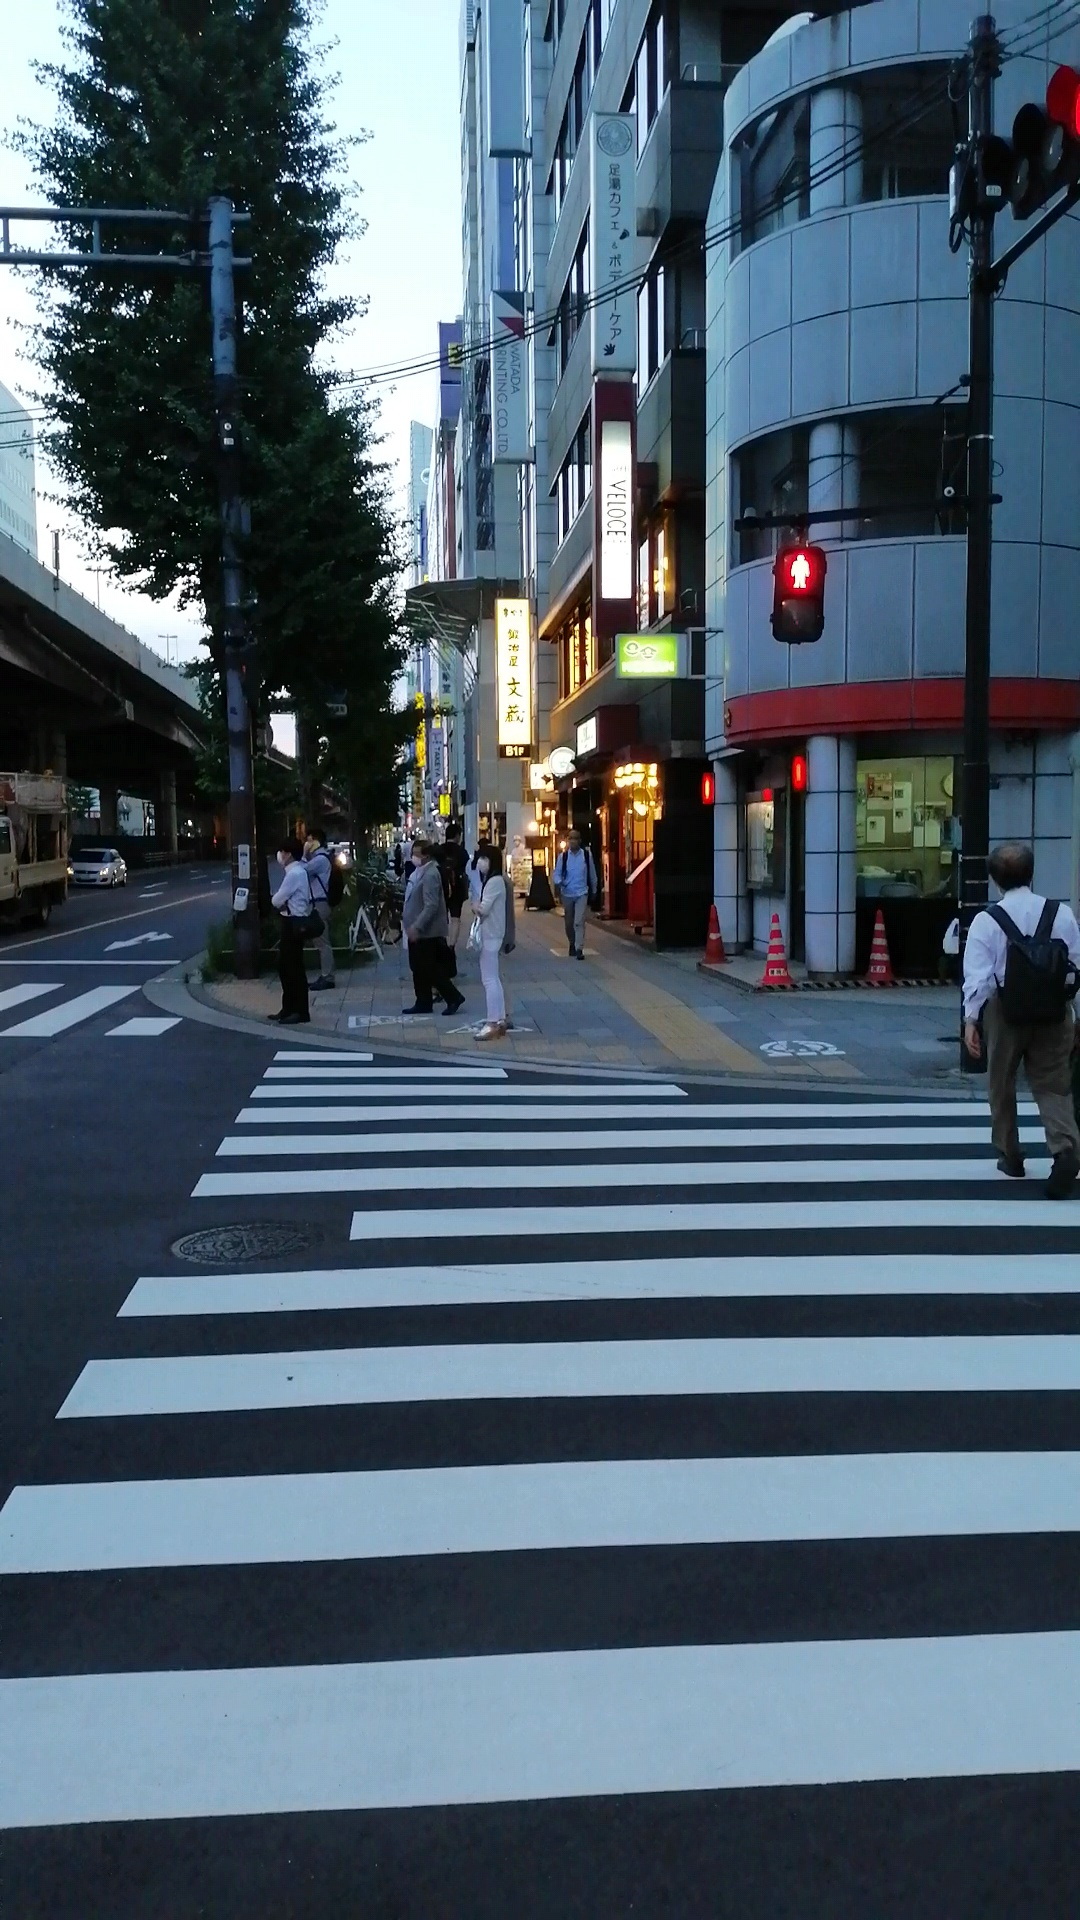red: (773, 543, 825, 645)
